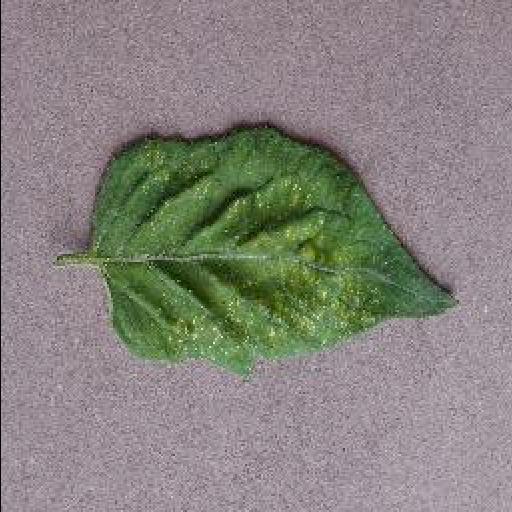disease_tomato: (91, 126, 461, 376)
